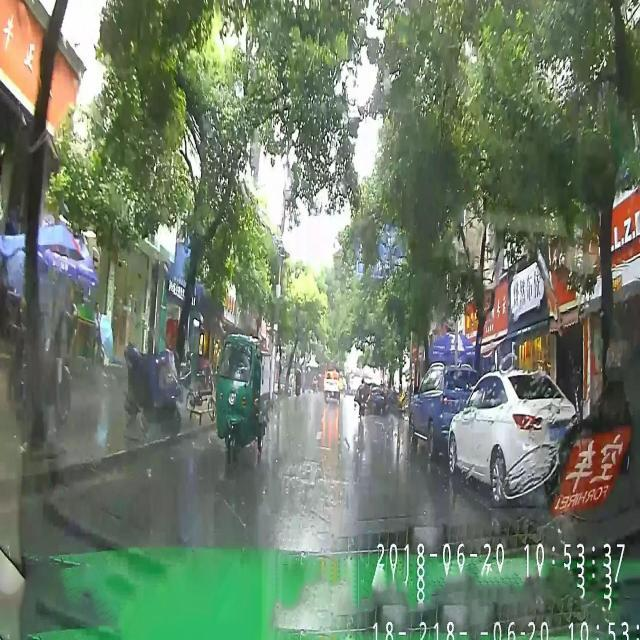car: (448, 369, 581, 502), (407, 360, 482, 460), (322, 367, 342, 406)
